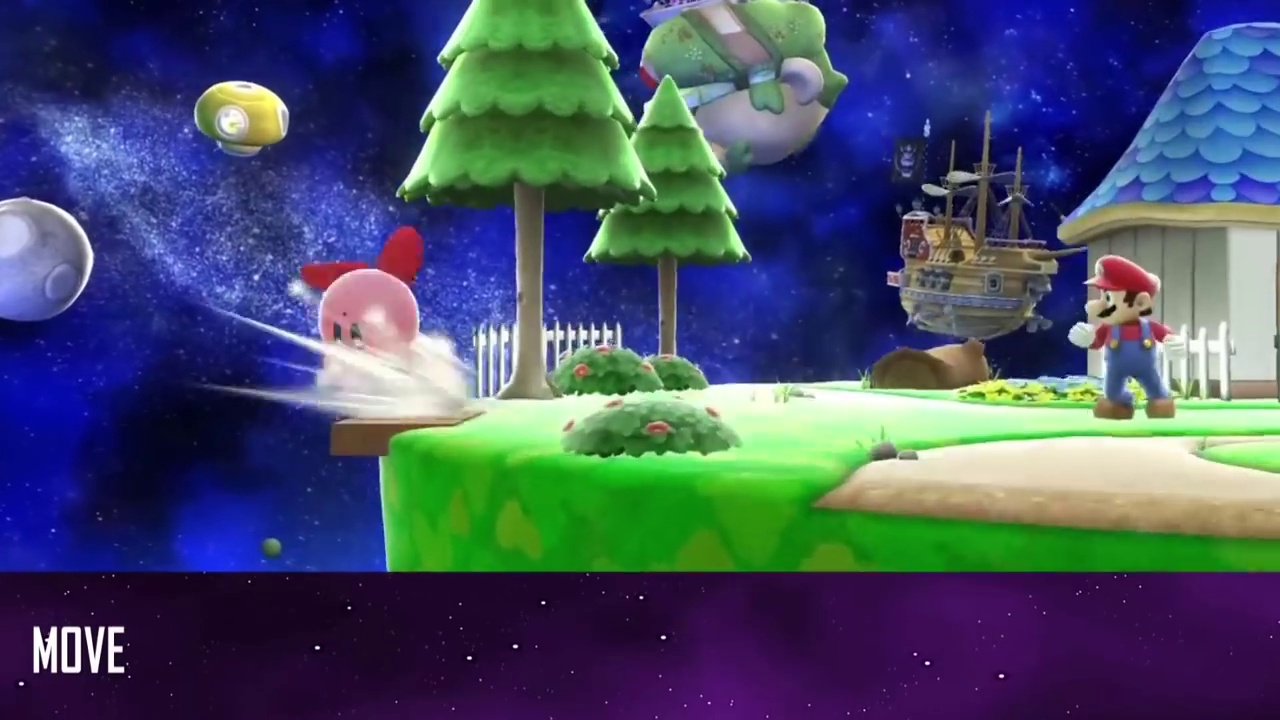Mario: (1068, 256, 1179, 418)
